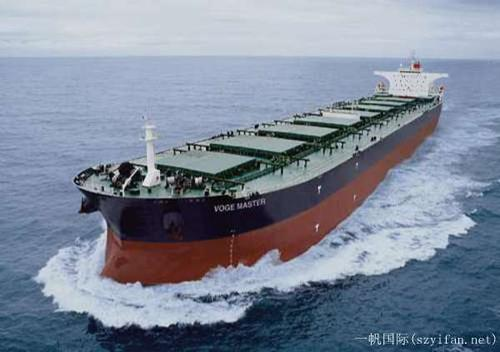Cargoship: (69, 46, 449, 285)
